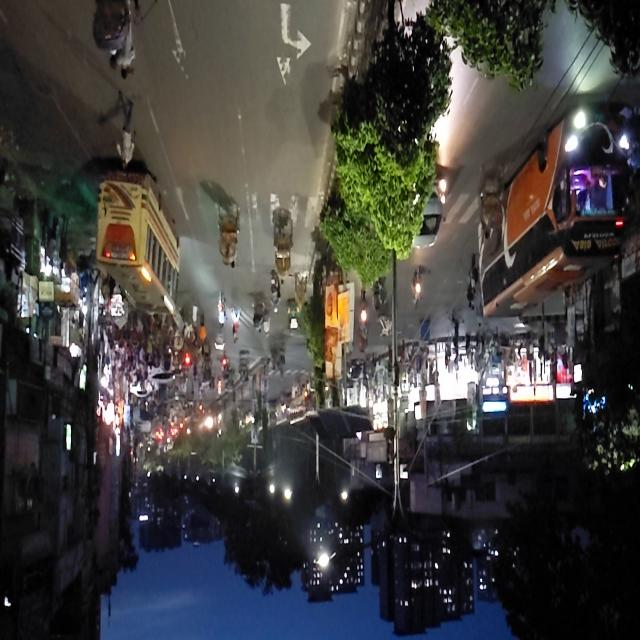silver: (404, 162, 451, 252)
